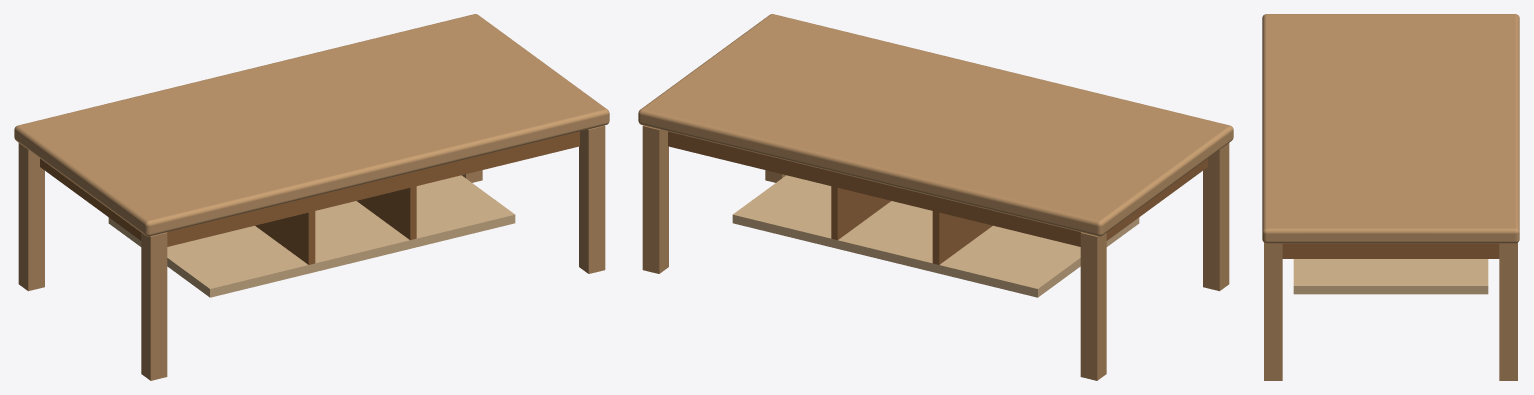
File: squarecoffeetable.glb
3 views of the same model, side by side, from view 1: azimuth 30°, elevation 25°; view 2: azimuth 150°, elevation 25°; view 3: azimuth 270°, elevation 25° (orthographic). The views are drawn at different scales.
Parts seen in each view (by area): view 1: material-0-top, material-3-shelf, material-2-leg, material-1-trim; view 2: material-0-top, material-3-shelf, material-2-leg, material-1-trim; view 3: material-0-top, material-3-shelf, material-2-leg, material-1-trim.
Part boxes in pixels (<box>): material-0-top: <box>14,14,609,236</box>; material-3-shelf: <box>108,175,515,297</box>; material-2-leg: <box>18,125,605,380</box>; material-1-trim: <box>40,131,579,264</box>; material-0-top: <box>638,14,1233,236</box>; material-3-shelf: <box>732,175,1139,297</box>; material-2-leg: <box>642,125,1229,380</box>; material-1-trim: <box>668,131,1207,264</box>; material-0-top: <box>1262,14,1519,243</box>; material-3-shelf: <box>1293,259,1488,294</box>; material-2-leg: <box>1264,243,1517,380</box>; material-1-trim: <box>1282,243,1499,258</box>.
Bounding box in the file's own units: 1.4 × 0.46 × 0.7.
